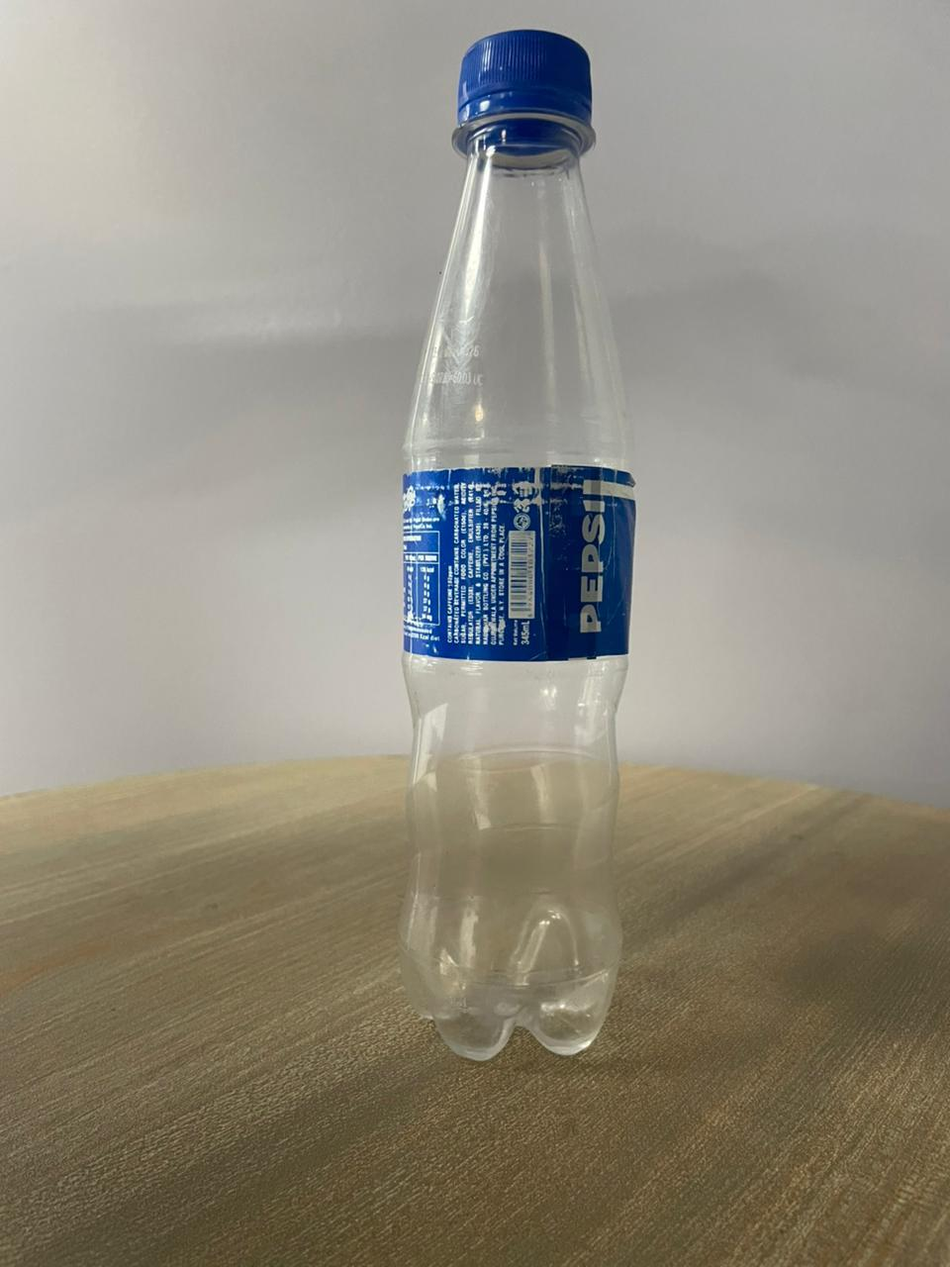Pepsi Bottle: (388, 20, 657, 1081), (386, 20, 651, 1077)
